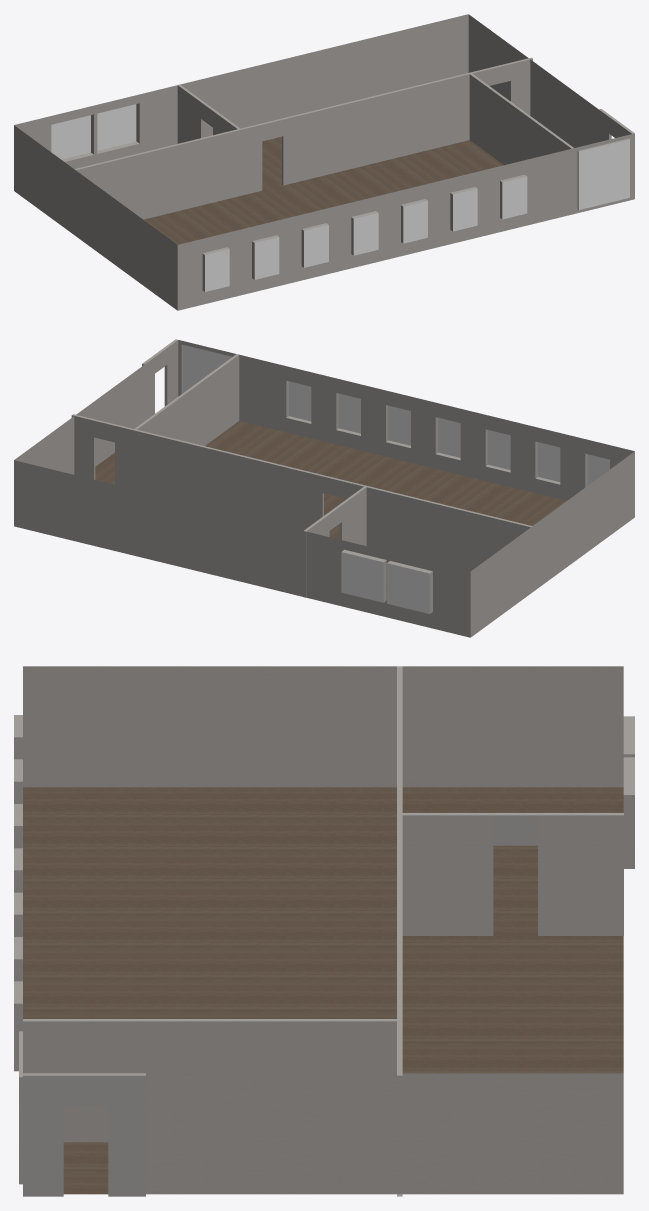
The model's file is office.fbx.
3 renders of one model, top to bottom at view 1: azimuth 30°, elevation 25°; view 2: azimuth 150°, elevation 25°; view 3: azimuth 270°, elevation 25°, orthographic. The views are drawn at different scales.
Visible parts, largest first — view 1: Cube.006, Cube.003, Cube.012, Cube.005, Cube.008, Cube.004, Cube.007, Cube.010, Cube.001, Cube.011, Cube.002; view 2: Cube.006, Cube.012, Cube.005, Cube.003, Cube.008, Cube.004, Cube.001, Cube.010, Cube.007, Cube.011, Cube.002; view 3: Cube.006, Cube.012, Cube.004, Cube.010, Cube.011, Cube.002, Cube.005, Cube.008.
Boxes of the visible parts, box(x1,y1,x2,y2) form: Cube.006: box(14, 14, 632, 310); Cube.003: box(51, 104, 629, 291); Cube.012: box(143, 136, 503, 244); Cube.005: box(297, 73, 469, 181); Cube.008: box(74, 129, 239, 219); Cube.004: box(469, 73, 634, 199); Cube.007: box(241, 115, 298, 195); Cube.010: box(177, 84, 241, 195); Cube.001: box(468, 57, 532, 115); Cube.011: box(202, 174, 526, 291); Cube.002: box(61, 103, 139, 161); Cube.006: box(14, 340, 634, 637); Cube.012: box(95, 421, 566, 539); Cube.005: box(135, 429, 308, 530); Cube.003: box(182, 345, 609, 613); Cube.008: box(366, 486, 532, 571); Cube.004: box(135, 339, 239, 445); Cube.001: box(71, 414, 136, 489); Cube.010: box(304, 485, 367, 597); Cube.007: box(307, 471, 365, 527); Cube.011: box(286, 380, 587, 487); Cube.002: box(342, 549, 432, 613); Cube.006: box(19, 666, 623, 1194); Cube.012: box(23, 787, 623, 1194); Cube.004: box(23, 1019, 396, 1196); Cube.010: box(397, 813, 623, 935); Cube.011: box(14, 715, 22, 1071); Cube.002: box(623, 716, 634, 868); Cube.005: box(397, 866, 402, 1018); Cube.008: box(397, 666, 402, 812).
Bounding box in the file's own units: 1984 × 273 × 1272.
